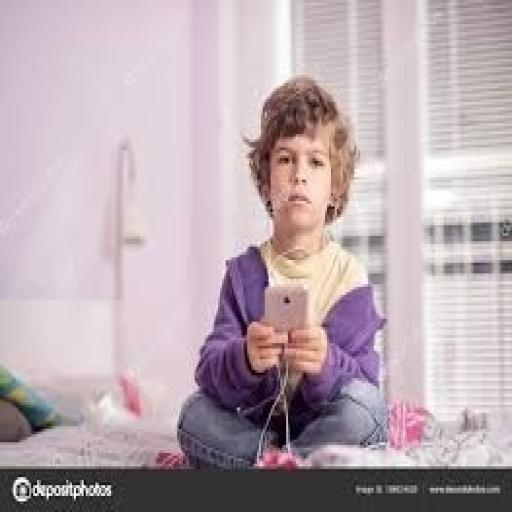listening_to_music: (174, 72, 392, 472)
